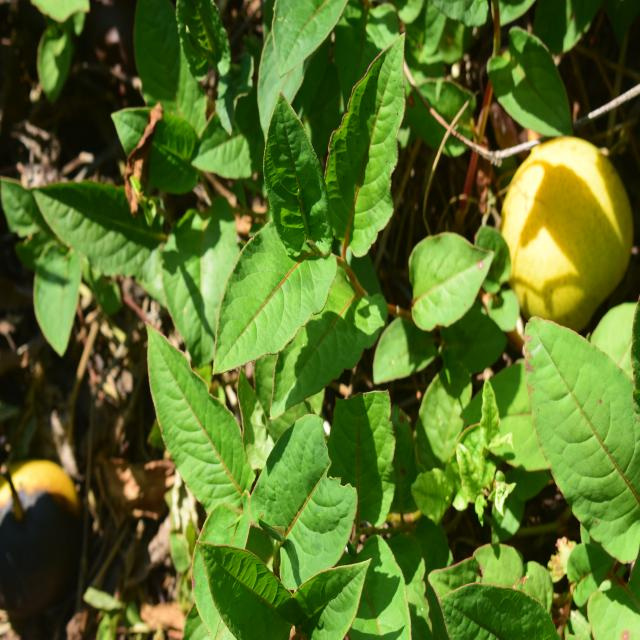Chinese_knotweed: (137, 306, 381, 630), (223, 67, 465, 373)
